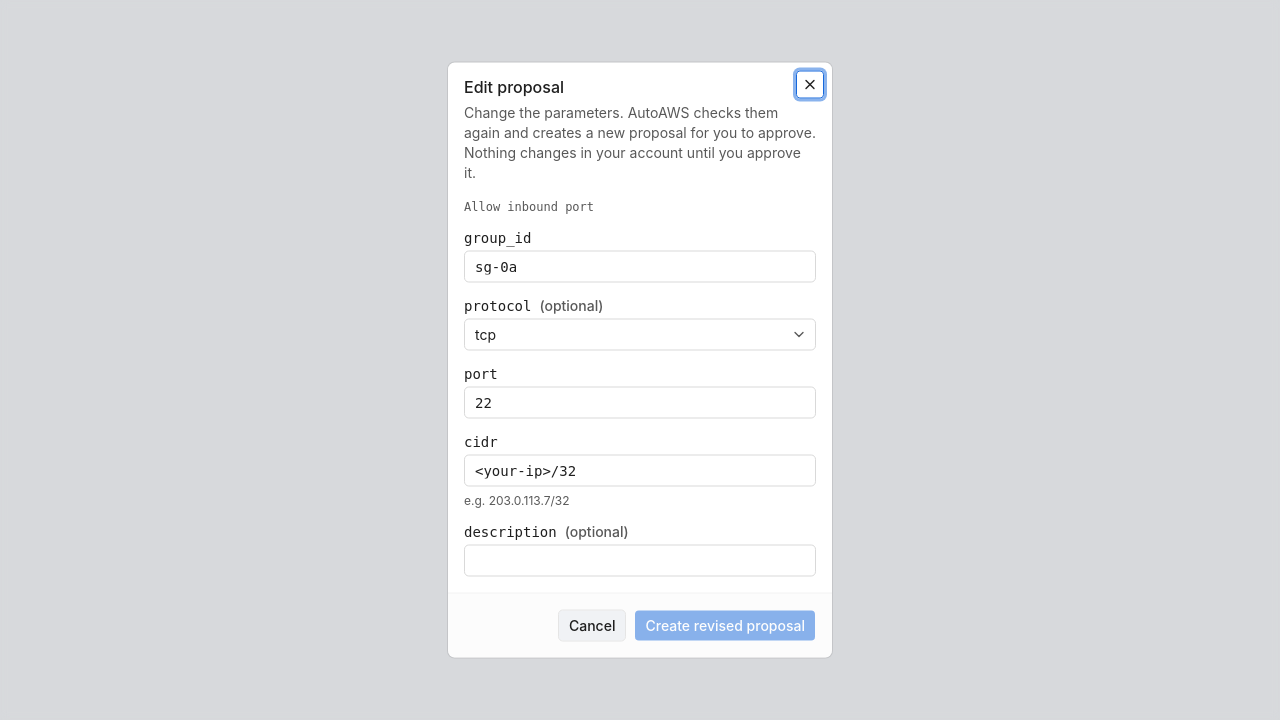
it: EditProposalDialog › checks patterns, ranges and required fields before sending
Expected: the field labelled "group_id" is shown, [464,250,816,282]
Replace the text in the field labelled "port" with "70000" at (640, 402), box [464,386,816,418]
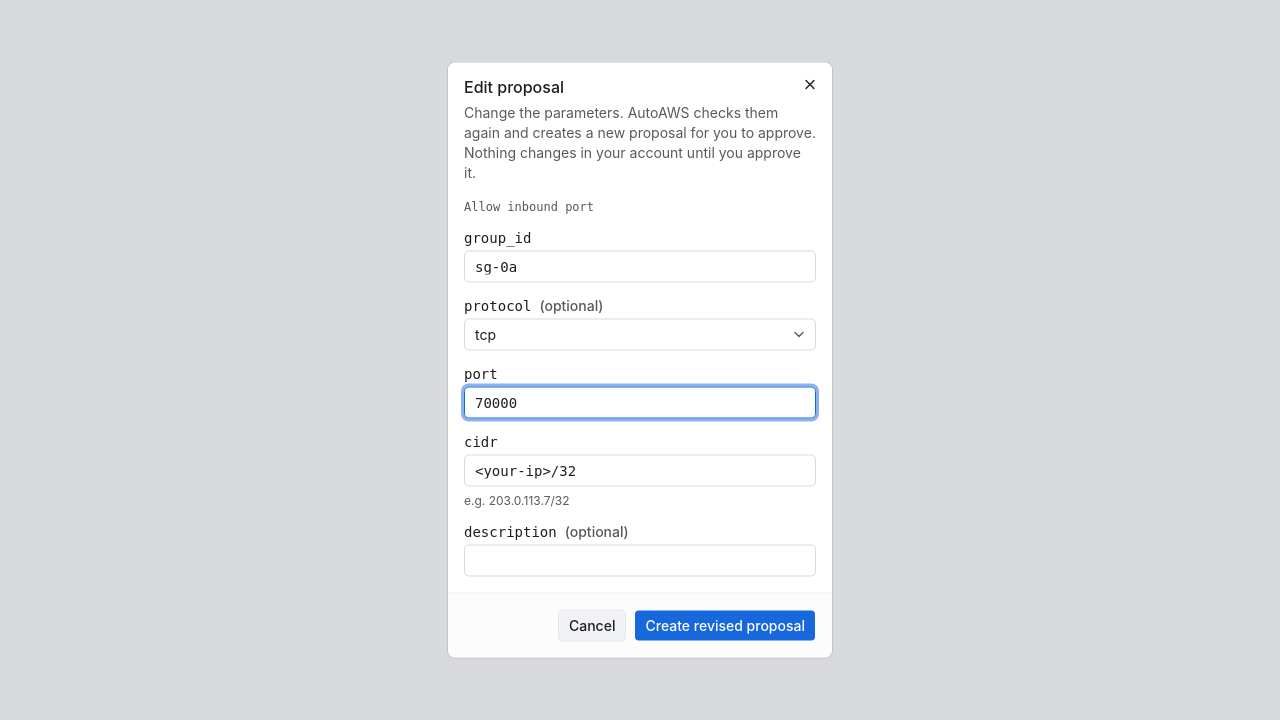
Replace the text in the field labelled "group_id" with "bad" at (640, 266), box [464,250,816,282]
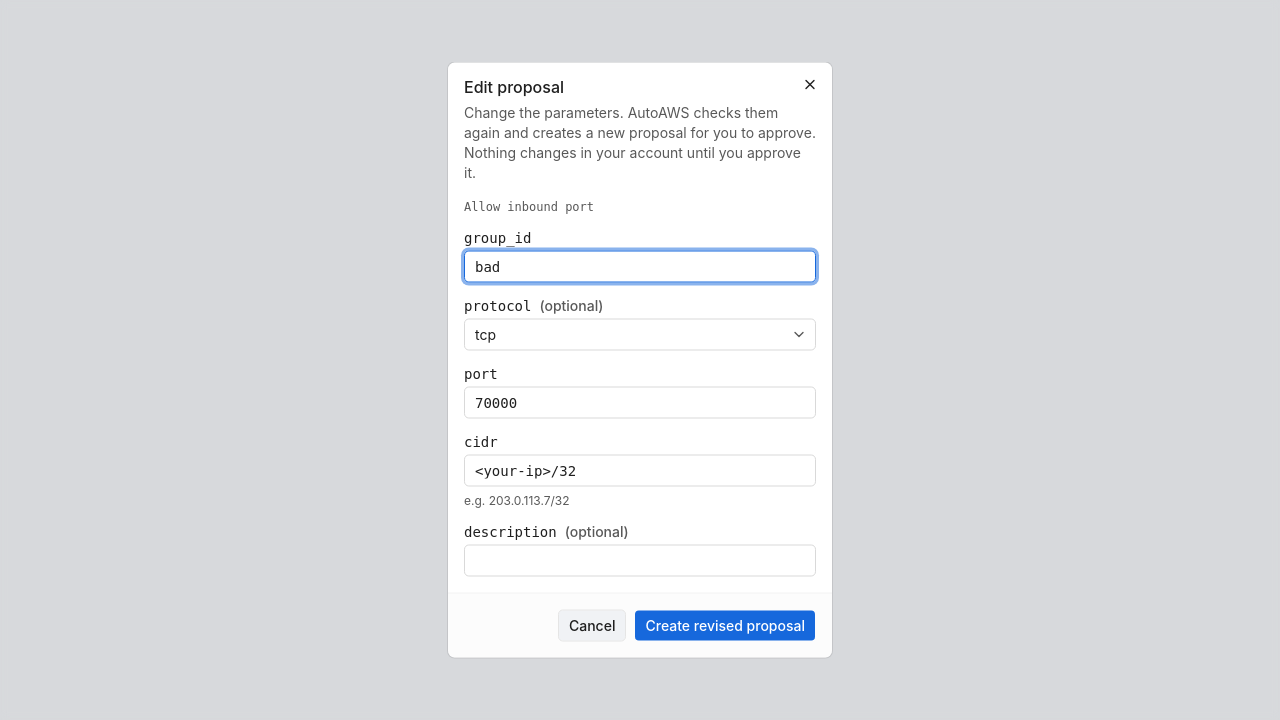
Clear the field labelled "cidr" at (640, 470), box [464,454,816,486]
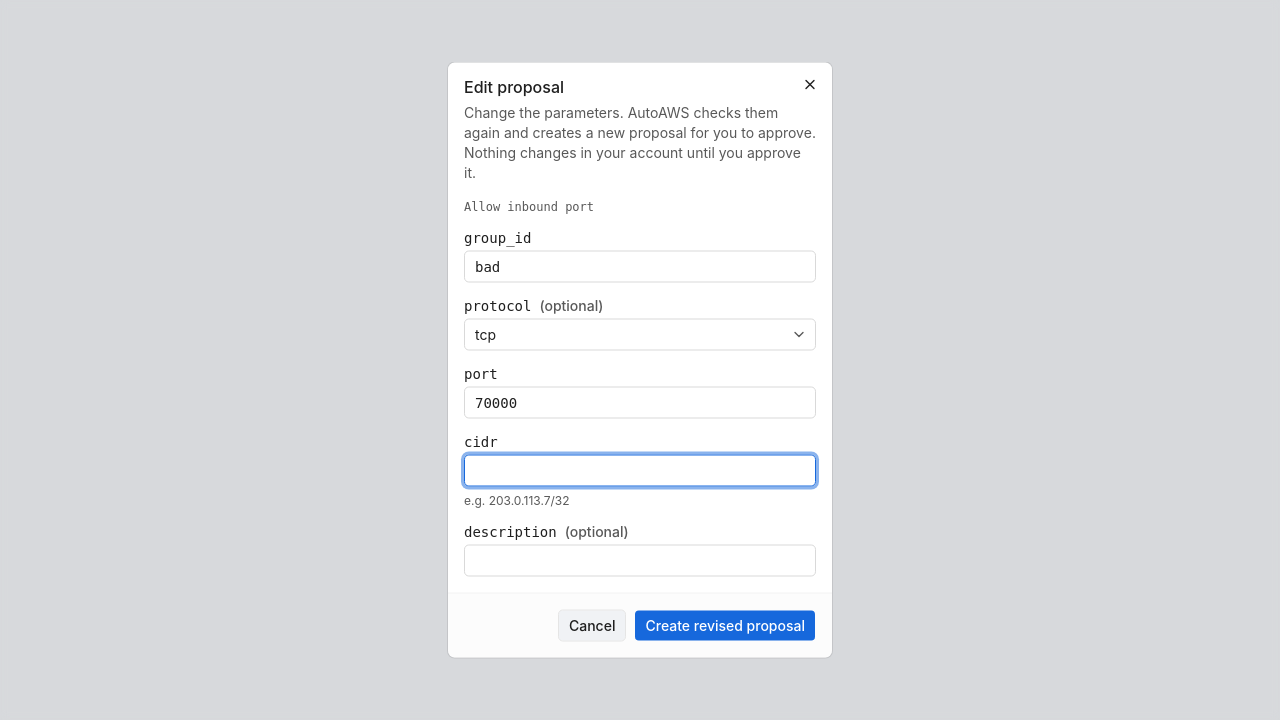
Click the button "Create revised proposal" at (725, 626), box [634,610,816,642]
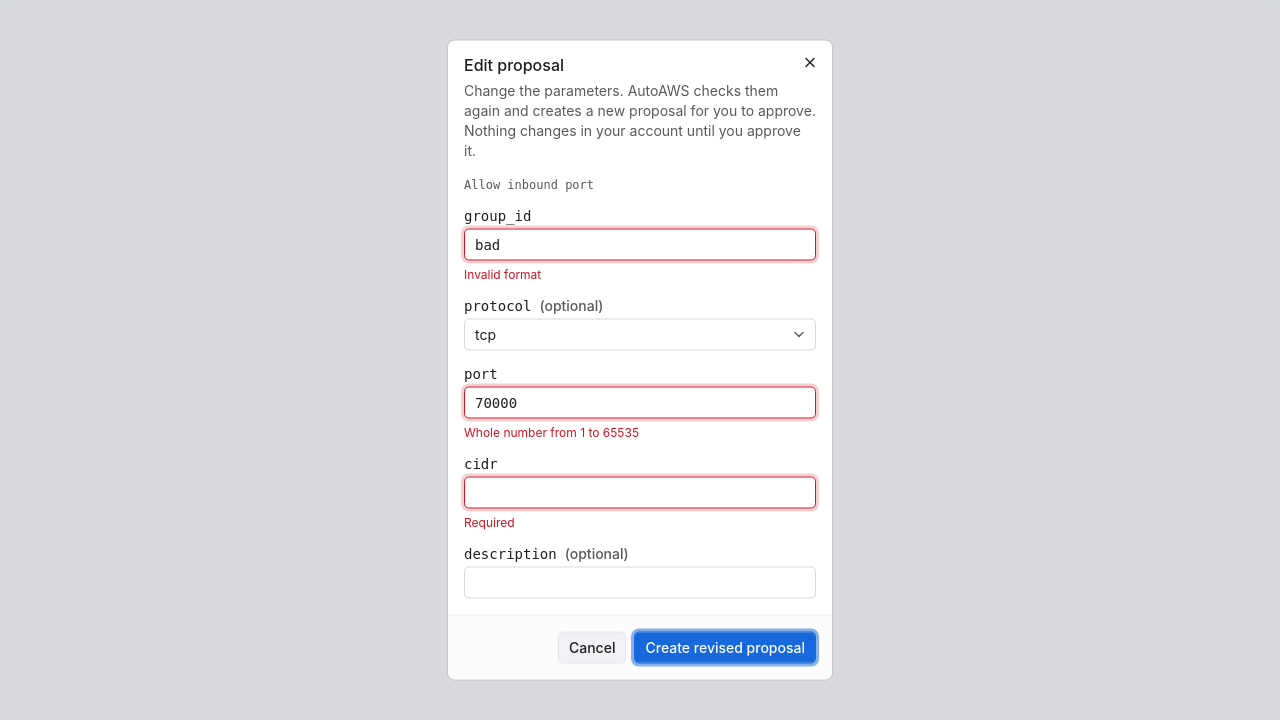
Now the text "Invalid format" is shown, box [464,266,541,282]
Now the text "Required" is shown, box [464,514,515,530]
